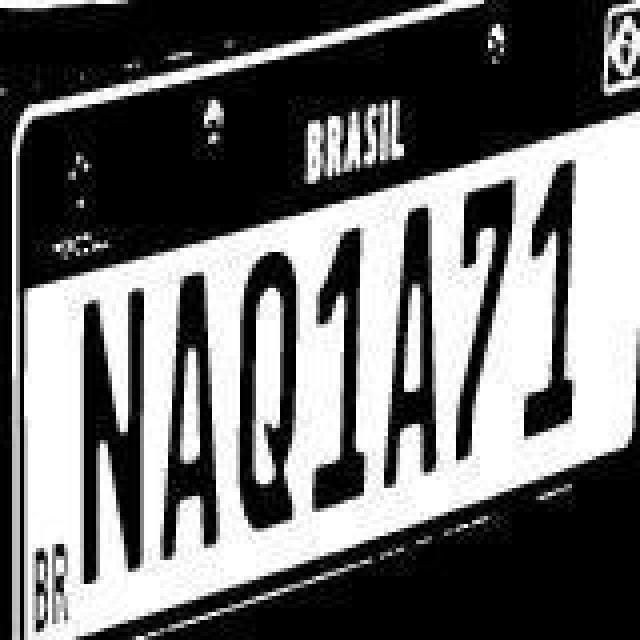1: (516, 158, 588, 442), (308, 224, 372, 520)
7: (448, 176, 520, 464)
A: (156, 266, 228, 566), (384, 206, 448, 490)
N: (76, 284, 148, 588)
Q: (238, 242, 306, 542)
